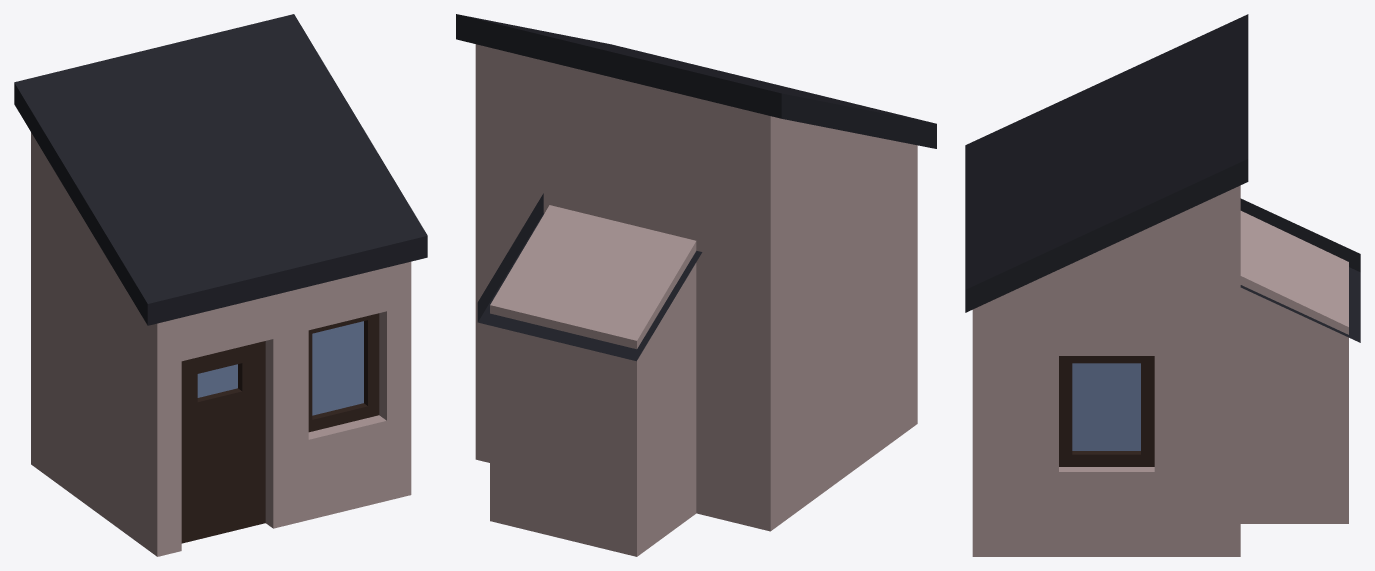
The model's file is SmallBuilding_01.fbx.
3 views of the same model, side by side, from view 1: azimuth 30°, elevation 25°; view 2: azimuth 150°, elevation 25°; view 3: azimuth 270°, elevation 25° (orthographic). The views are drawn at different scales.
Parts seen in each view (by area): view 1: SmallBuilding_01; view 2: SmallBuilding_01; view 3: SmallBuilding_01.
Boxes of the visible parts, x1,y1,x2,y2 form: SmallBuilding_01: [14, 14, 427, 556]; SmallBuilding_01: [456, 14, 936, 556]; SmallBuilding_01: [965, 14, 1360, 556].
Size of the model in its own units: 3.23 by 4.21 by 3.72.
